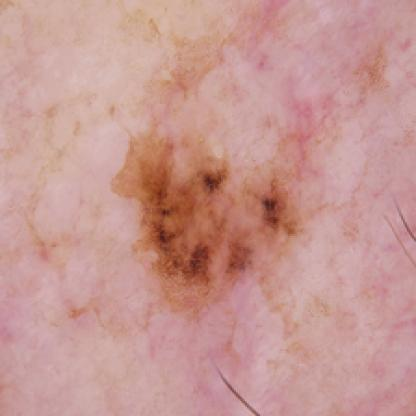Skin_Cancer-Malignant: (109, 124, 305, 312)
